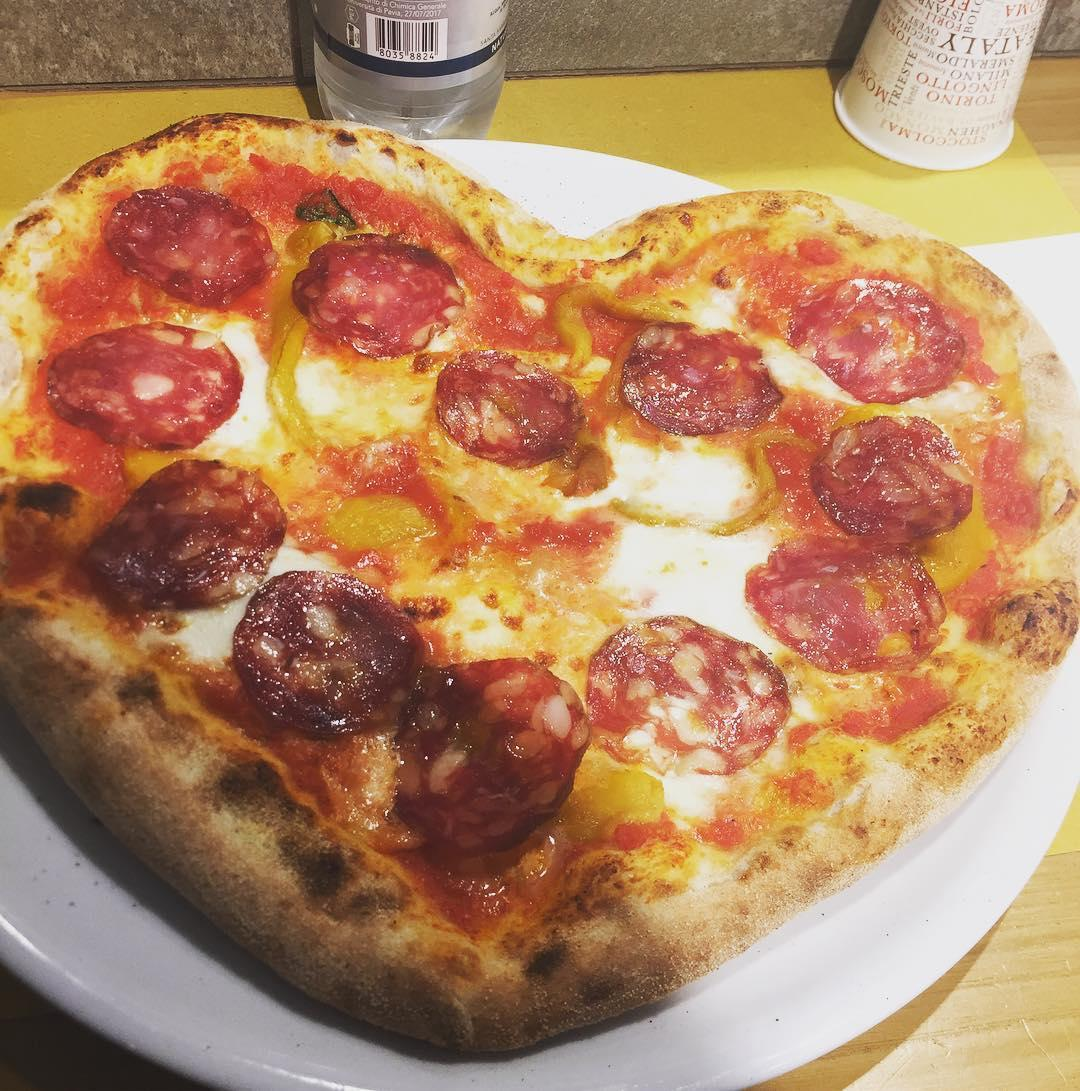Pepperoni: (388, 640, 594, 870), (579, 597, 794, 788), (225, 563, 439, 745), (736, 517, 948, 692), (77, 450, 292, 615), (40, 311, 253, 452), (779, 259, 973, 409), (98, 172, 279, 316), (289, 227, 470, 364), (816, 404, 976, 556), (612, 314, 791, 447), (425, 339, 593, 480)
Peppers: (258, 199, 342, 484), (606, 418, 797, 535), (308, 490, 443, 563), (541, 277, 605, 399)
Pizza: (0, 105, 1080, 1068)
